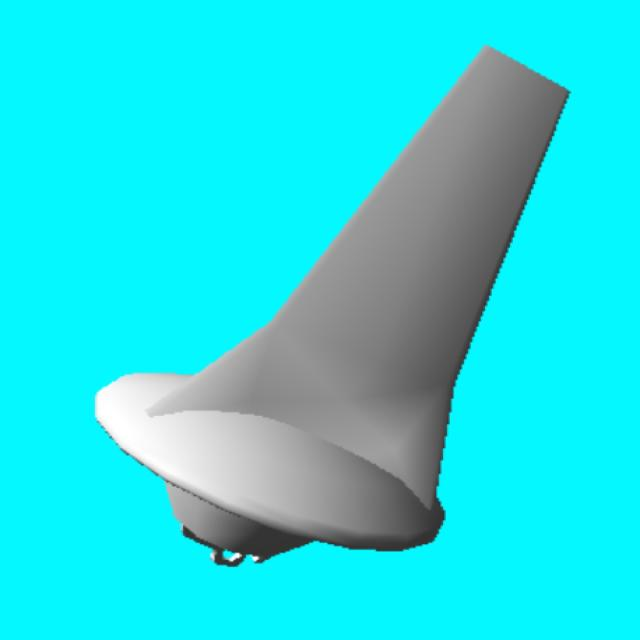WhiteBuoy: (102, 45, 570, 570)
